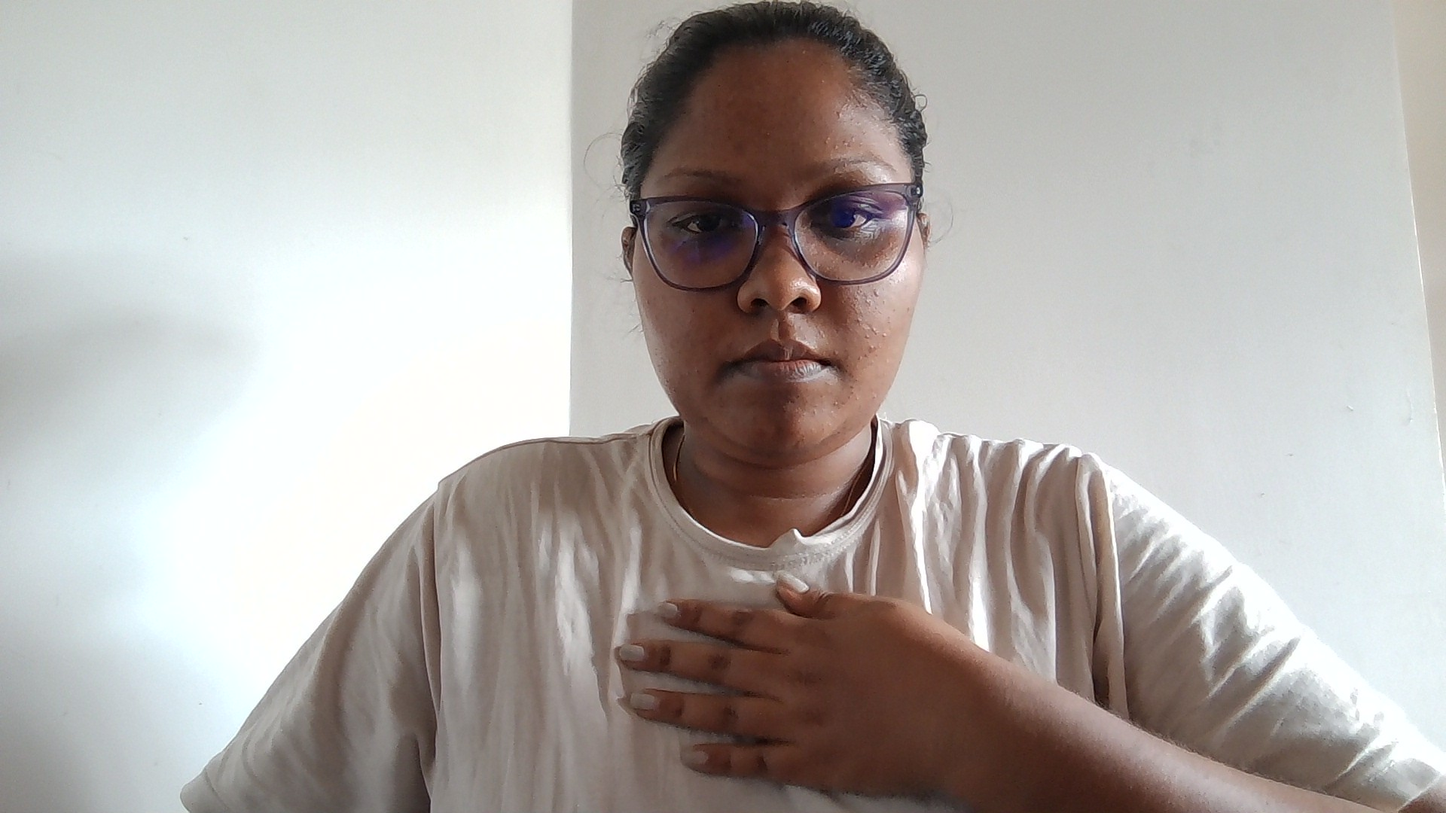Please: (621, 522, 1118, 813)
